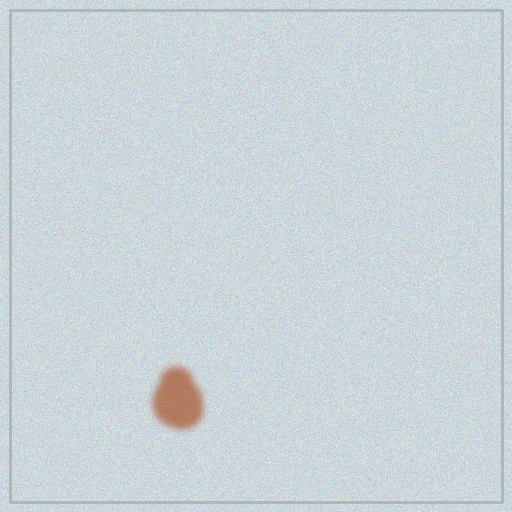surface_abnormality: (121, 340, 223, 442)
